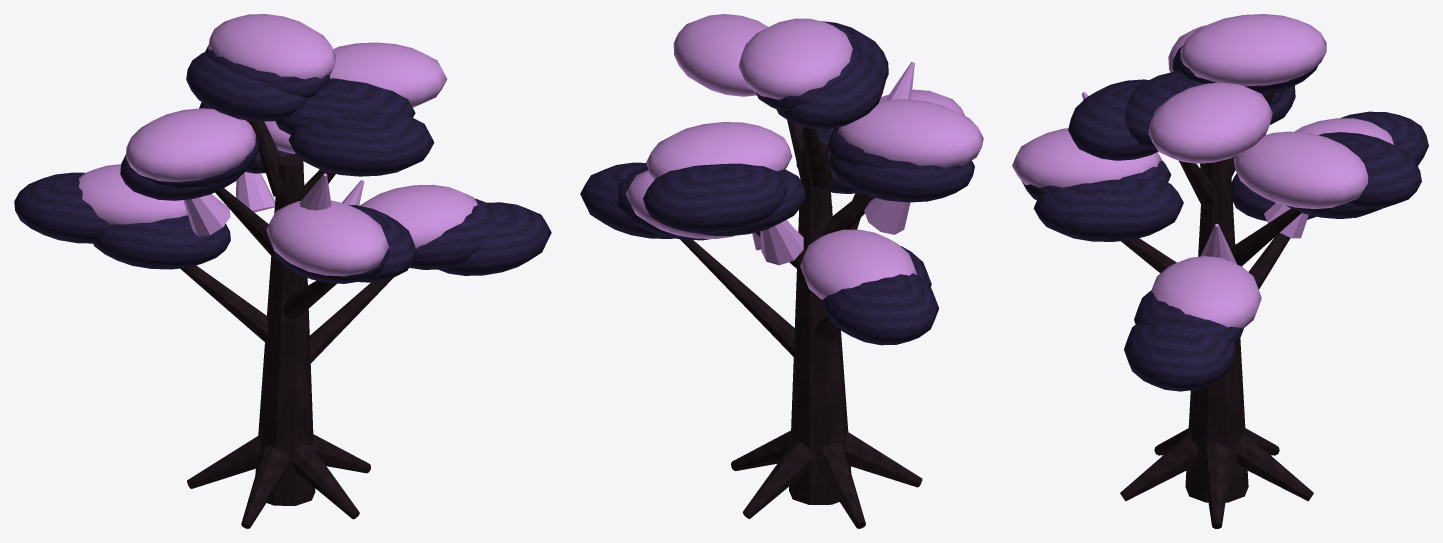
File: planta-0.glb
3 renders of one model, left to right at view 1: azimuth 30°, elevation 25°; view 2: azimuth 150°, elevation 25°; view 3: azimuth 270°, elevation 25°, orthographic. The views are drawn at different scales.
Visible parts, largest first — view 1: Folhagem, Folhagem.002, Tronco; view 2: Folhagem.002, Folhagem, Tronco; view 3: Folhagem.002, Folhagem, Tronco.
Part boxes in pixels (bbox=[...]): Folhagem: bbox=[14, 45, 551, 283]; Folhagem.002: bbox=[78, 14, 477, 276]; Tronco: bbox=[180, 120, 393, 528]; Folhagem.002: bbox=[626, 14, 983, 299]; Folhagem: bbox=[580, 21, 974, 345]; Tronco: bbox=[680, 120, 922, 528]; Folhagem.002: bbox=[1012, 14, 1393, 328]; Folhagem: bbox=[1021, 45, 1428, 391]; Tronco: bbox=[1120, 93, 1313, 528].
Bounding box in the file's own units: 1.08 × 1.1 × 0.8842.
Materials: 3 (2 with a texture image).
